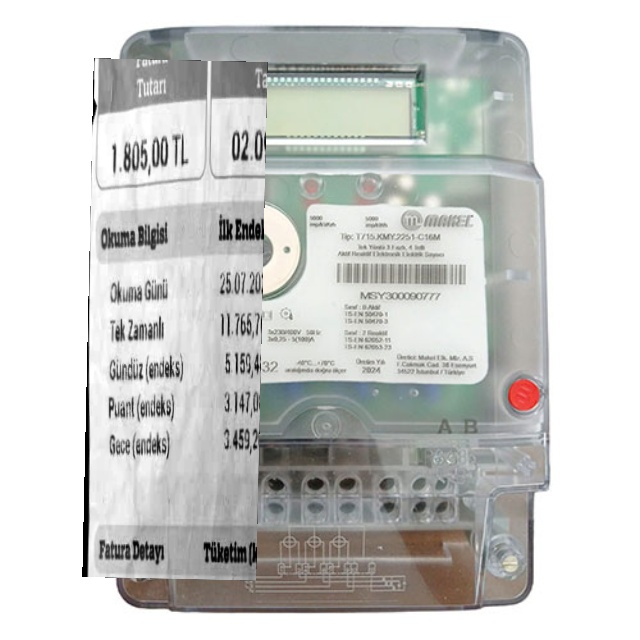electricity-bill: (81, 57, 267, 580)
